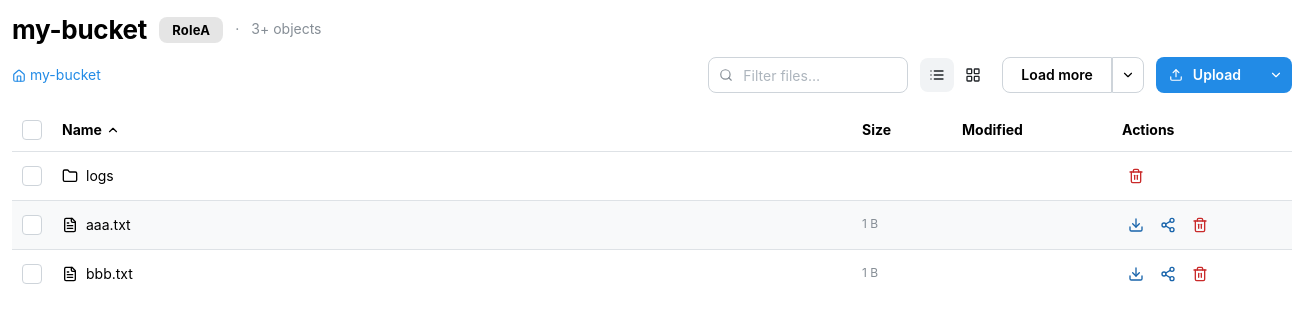
Test: FileBrowser server-search mode › shows the empty-state message when the search source returns no results
Type "4f2a" into the field with placeholder "Filter files…". click: [808, 75]
box: [708,57,908,93]
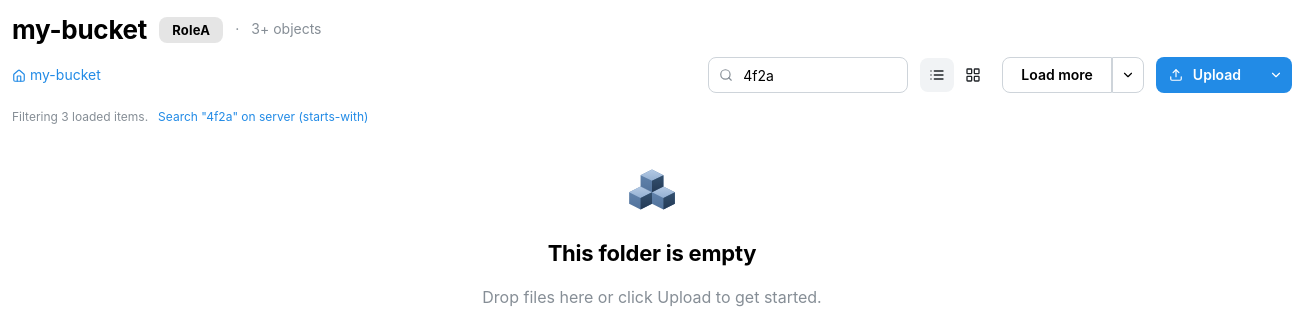
Click the button "Search \"4f2a\" on server (starts-with)". click: [263, 118]
box: [158,109,368,126]
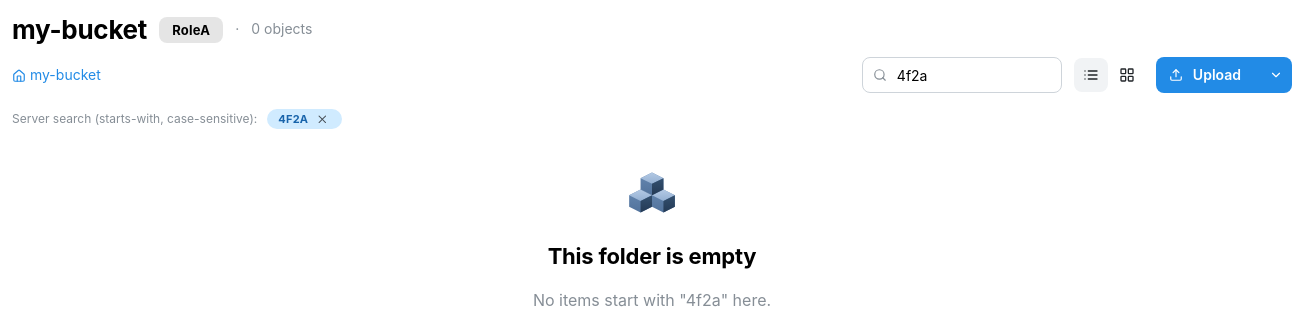
Expected: the text "No items start with \"4f2a\" here." is shown, [533,288,771,313]
